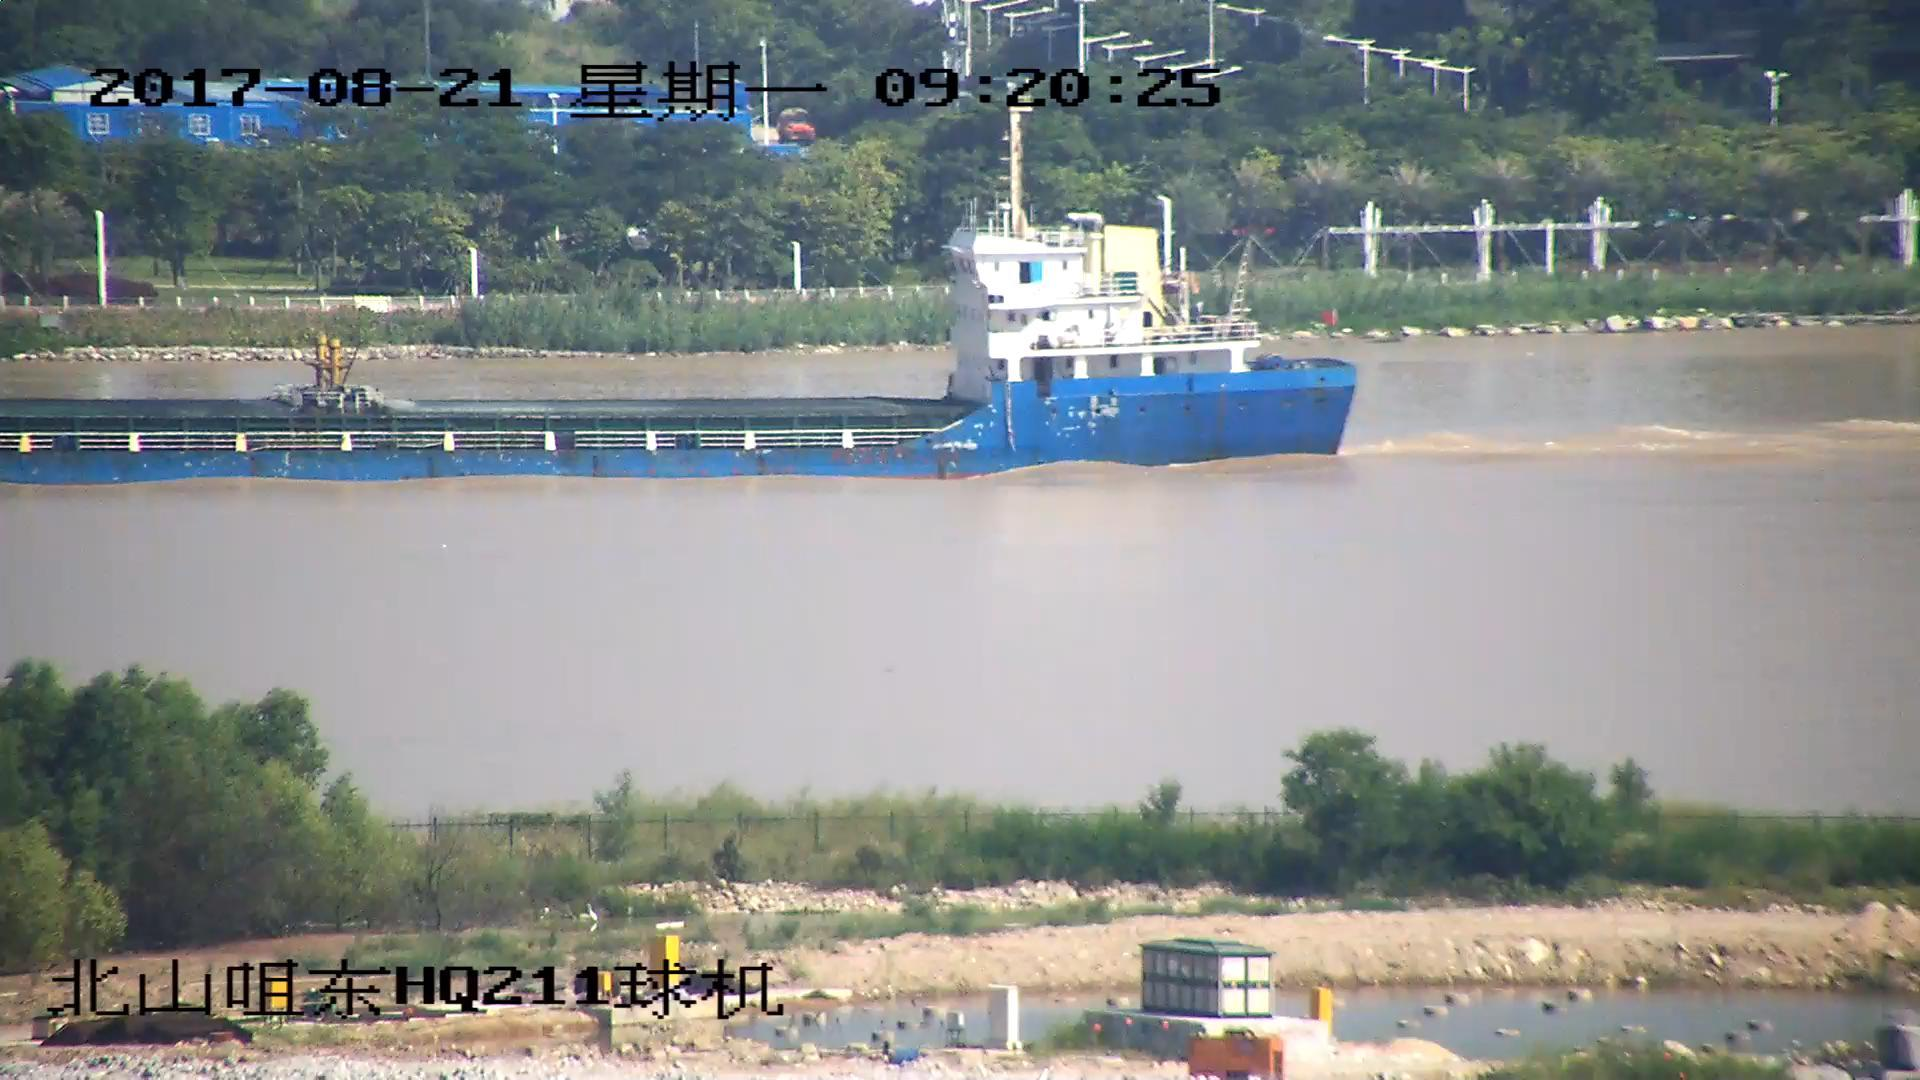Ship: (3, 107, 1349, 483)
